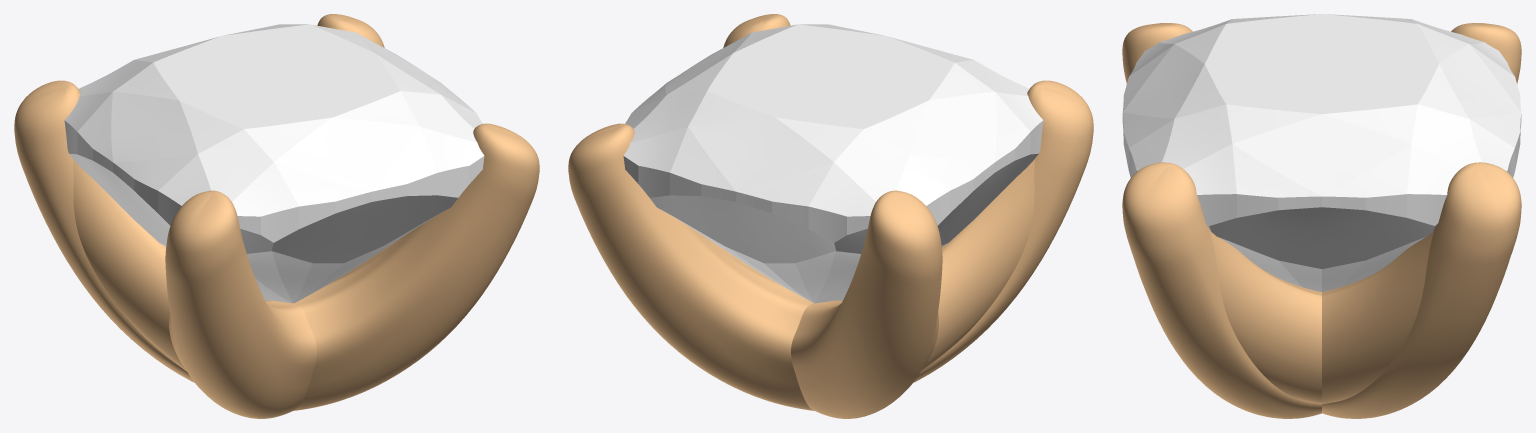
The model's file is Cushion_Head New.glb.
3 views of the same model, side by side, from view 1: azimuth 30°, elevation 25°; view 2: azimuth 150°, elevation 25°; view 3: azimuth 270°, elevation 25° (orthographic). The views are drawn at different scales.
Parts seen in each view (by area): view 1: Diamond_Cushion_Square, Cushion_Head3dm; view 2: Diamond_Cushion_Square, Cushion_Head3dm; view 3: Diamond_Cushion_Square, Cushion_Head3dm.
Part boxes in pixels (x1,y1,x2,y2): Diamond_Cushion_Square: [64, 24, 484, 303]; Cushion_Head3dm: [14, 14, 539, 418]; Diamond_Cushion_Square: [623, 24, 1043, 303]; Cushion_Head3dm: [568, 14, 1093, 418]; Diamond_Cushion_Square: [1122, 14, 1521, 292]; Cushion_Head3dm: [1122, 23, 1521, 418].
Bounding box in the file's own units: 2.49 × 2.16 × 2.27.
